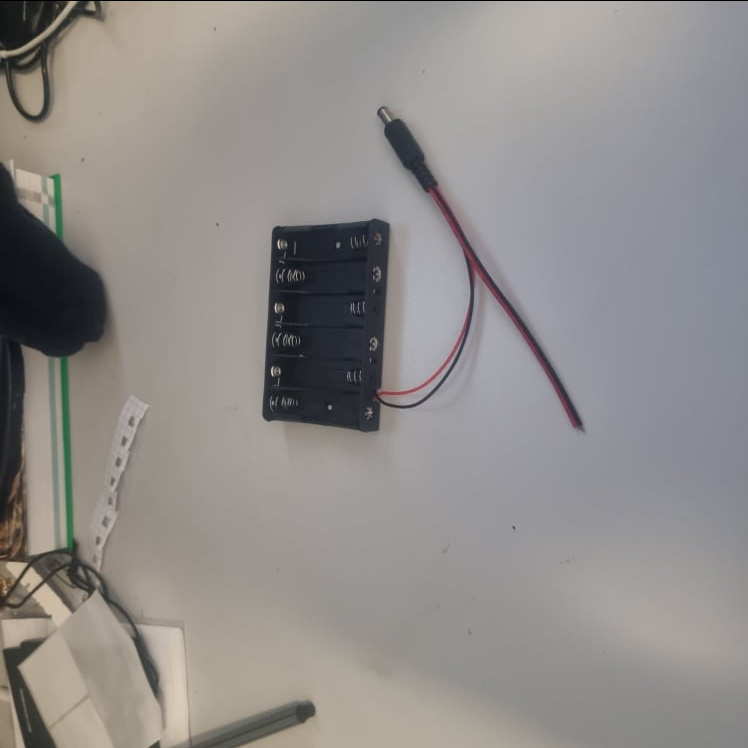BATTERY BOX: (261, 216, 391, 432)
